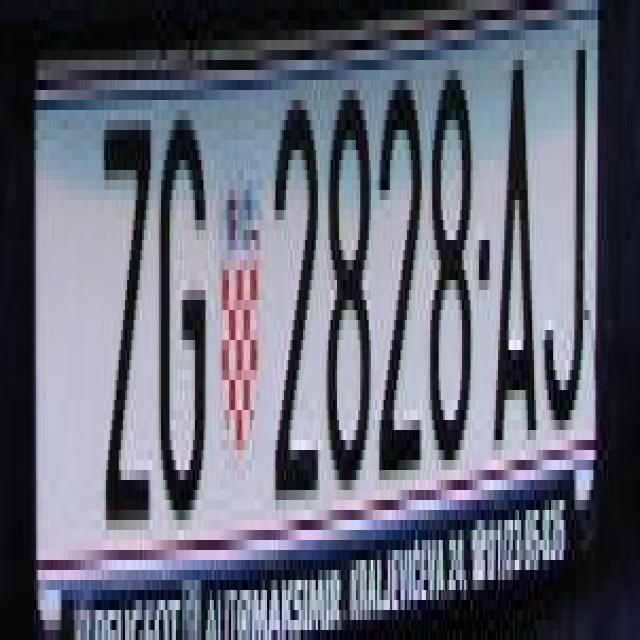2: (271, 90, 320, 500), (376, 70, 423, 480)
8: (325, 85, 370, 485), (428, 65, 473, 465)
A: (492, 40, 540, 450)
G: (157, 105, 208, 515)
Z: (100, 100, 152, 520)
